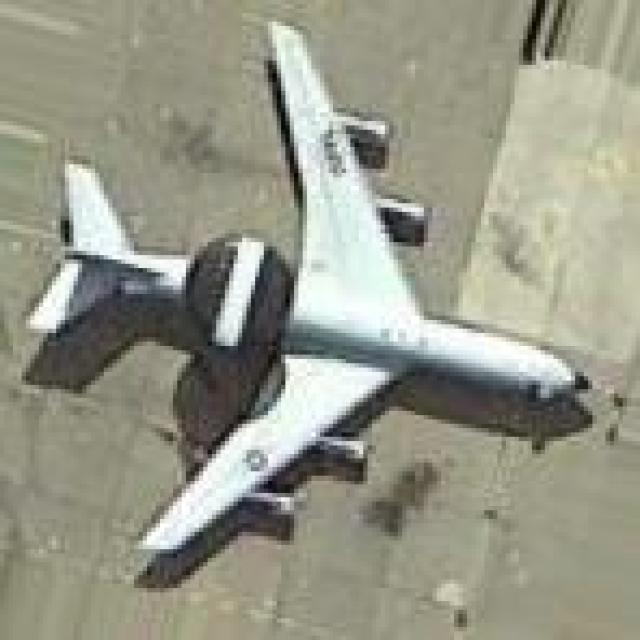E-3_TopDown: (17, 13, 597, 588)
